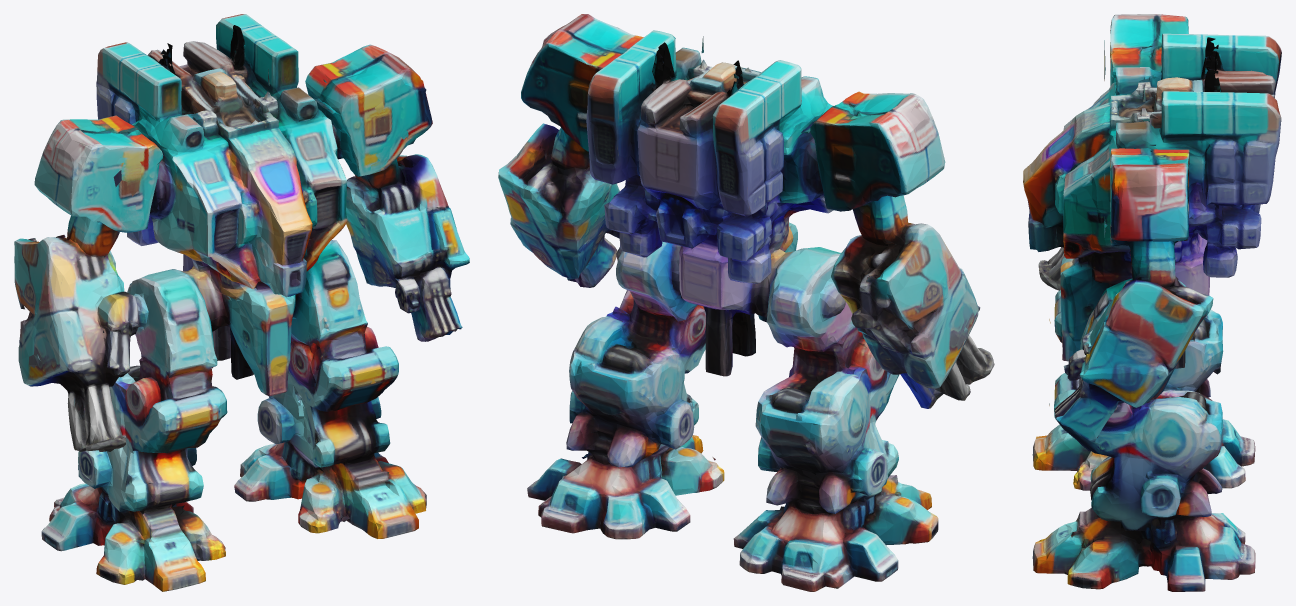
Rendered from robot.glb.
3 renders of one model, left to right at view 1: azimuth 30°, elevation 25°; view 2: azimuth 150°, elevation 25°; view 3: azimuth 270°, elevation 25°, orthographic. The views are drawn at different scales.
Visible parts, largest first — view 1: world; view 2: world; view 3: world.
Boxes of the visible parts, bbox=[...] form: world: bbox=[14, 14, 469, 591]; world: bbox=[498, 14, 994, 591]; world: bbox=[1023, 14, 1281, 591].
Size of the model in its own units: 0.9217 by 0.988 by 0.5067.
1 material, 1 textured.
